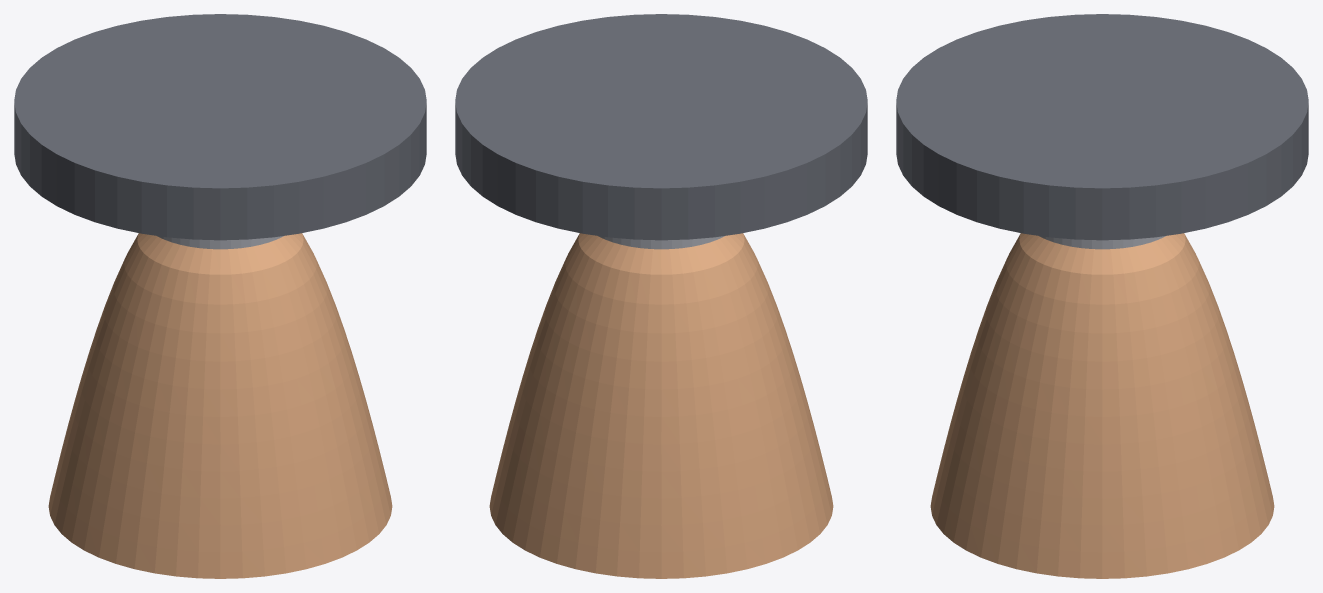
File: engine_single.glb
The picture shows the model from 3 angles, left to right: view 1: azimuth 30°, elevation 25°; view 2: azimuth 150°, elevation 25°; view 3: azimuth 270°, elevation 25°; orthographic projection.
Parts seen in each view (by area): view 1: engine_single_2, engine_single_0, engine_single_1; view 2: engine_single_2, engine_single_0, engine_single_1; view 3: engine_single_2, engine_single_0, engine_single_1.
Part boxes in pixels (x1,y1,x2,y2): engine_single_2: [48, 233, 392, 578]; engine_single_0: [14, 14, 426, 240]; engine_single_1: [157, 236, 283, 249]; engine_single_2: [489, 233, 833, 578]; engine_single_0: [455, 14, 867, 240]; engine_single_1: [598, 236, 724, 249]; engine_single_2: [930, 233, 1274, 578]; engine_single_0: [896, 14, 1308, 240]; engine_single_1: [1039, 236, 1165, 249].
Size of the model in its own units: 1.8 by 1.95 by 1.8.
